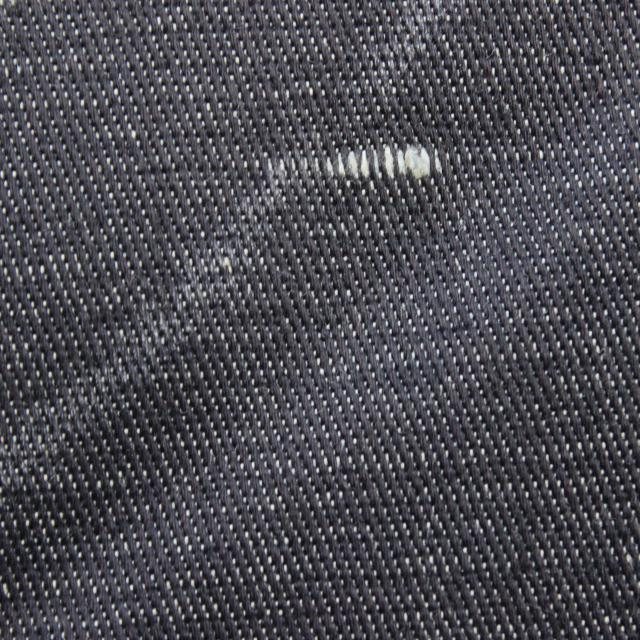pulled_or_thick_thread: (276, 125, 453, 191)
